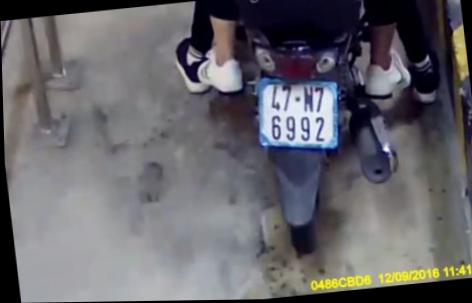LP: (249, 68, 346, 159)
